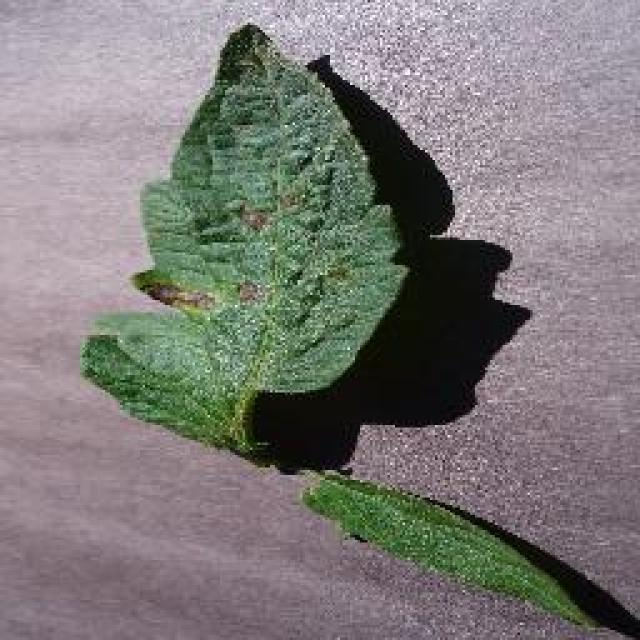Tomato Early blight leaf: (89, 28, 409, 452)
